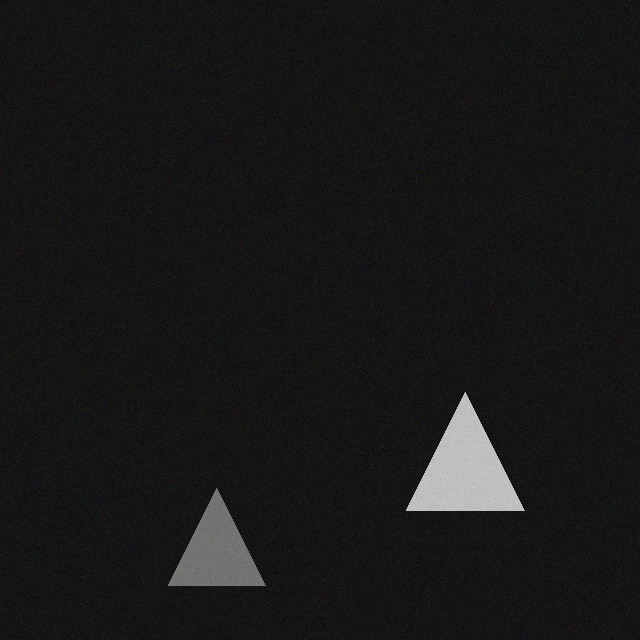triangle: (415, 390, 533, 508), (177, 486, 274, 583)
